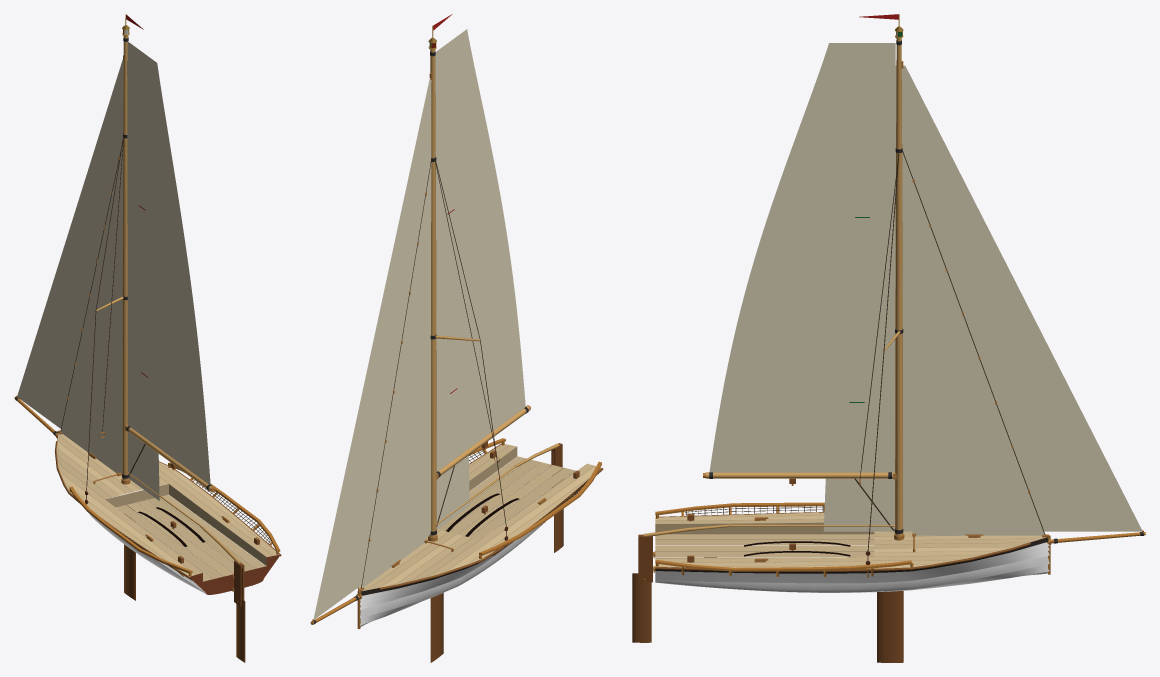
File: skiff.glb
The picture shows the model from 3 angles, left to right: view 1: azimuth 30°, elevation 25°; view 2: azimuth 150°, elevation 25°; view 3: azimuth 270°, elevation 25°; orthographic projection. The views are drawn at different scales.
Visible parts, largest first — view 1: kite, sail, hull, jib, mast, rudder, daggerboard, boom; view 2: kite, sail, hull, jib, mast, daggerboard, boom, rudder; view 3: kite, sail, hull, jib, mast, rudder, daggerboard, boom.
Part boxes in pixels (x1,y1,x2,y2): kite: (17, 59, 159, 500); sail: (127, 41, 210, 485); hull: (14, 395, 281, 594); jib: (61, 151, 122, 473); mast: (57, 36, 193, 504); rudder: (233, 561, 245, 662); daggerboard: (124, 506, 135, 600); boom: (125, 425, 215, 492); kite: (313, 68, 469, 619); sail: (435, 29, 525, 466); hull: (310, 438, 603, 629); jib: (361, 176, 430, 587); mast: (358, 50, 508, 593); daggerboard: (430, 593, 443, 662); boom: (436, 405, 530, 479); rudder: (551, 443, 563, 552); kite: (823, 65, 1142, 531); sail: (709, 43, 895, 472); hull: (654, 502, 1145, 592); jib: (903, 166, 1044, 535); mast: (865, 39, 1048, 577); rudder: (632, 534, 654, 642); daggerboard: (877, 591, 903, 662); boom: (703, 472, 896, 479).
Size of the model in its own units: 1.77 by 8.07 by 5.79.
